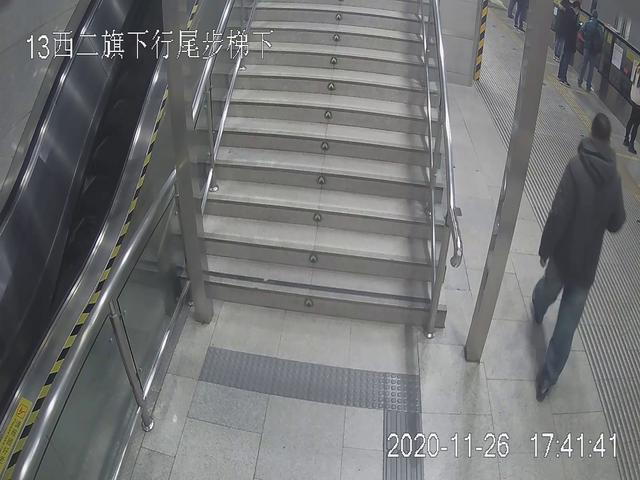person: (533, 103, 627, 398), (546, 4, 587, 87), (577, 3, 609, 88)
